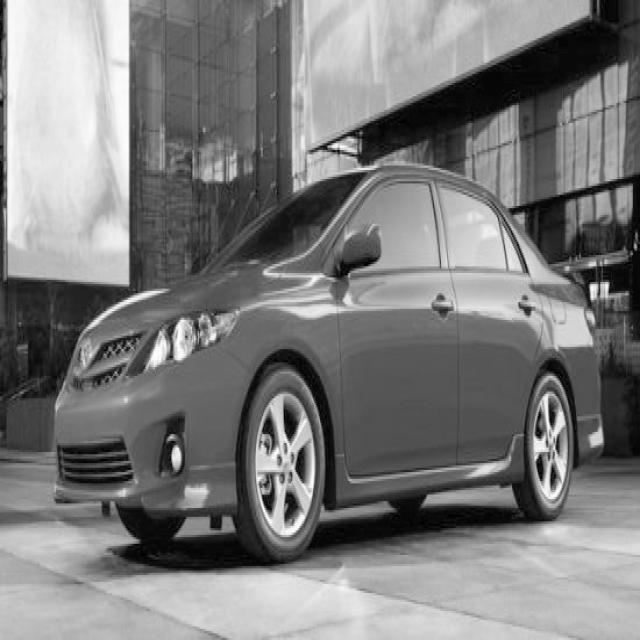car: (51, 159, 605, 562)
